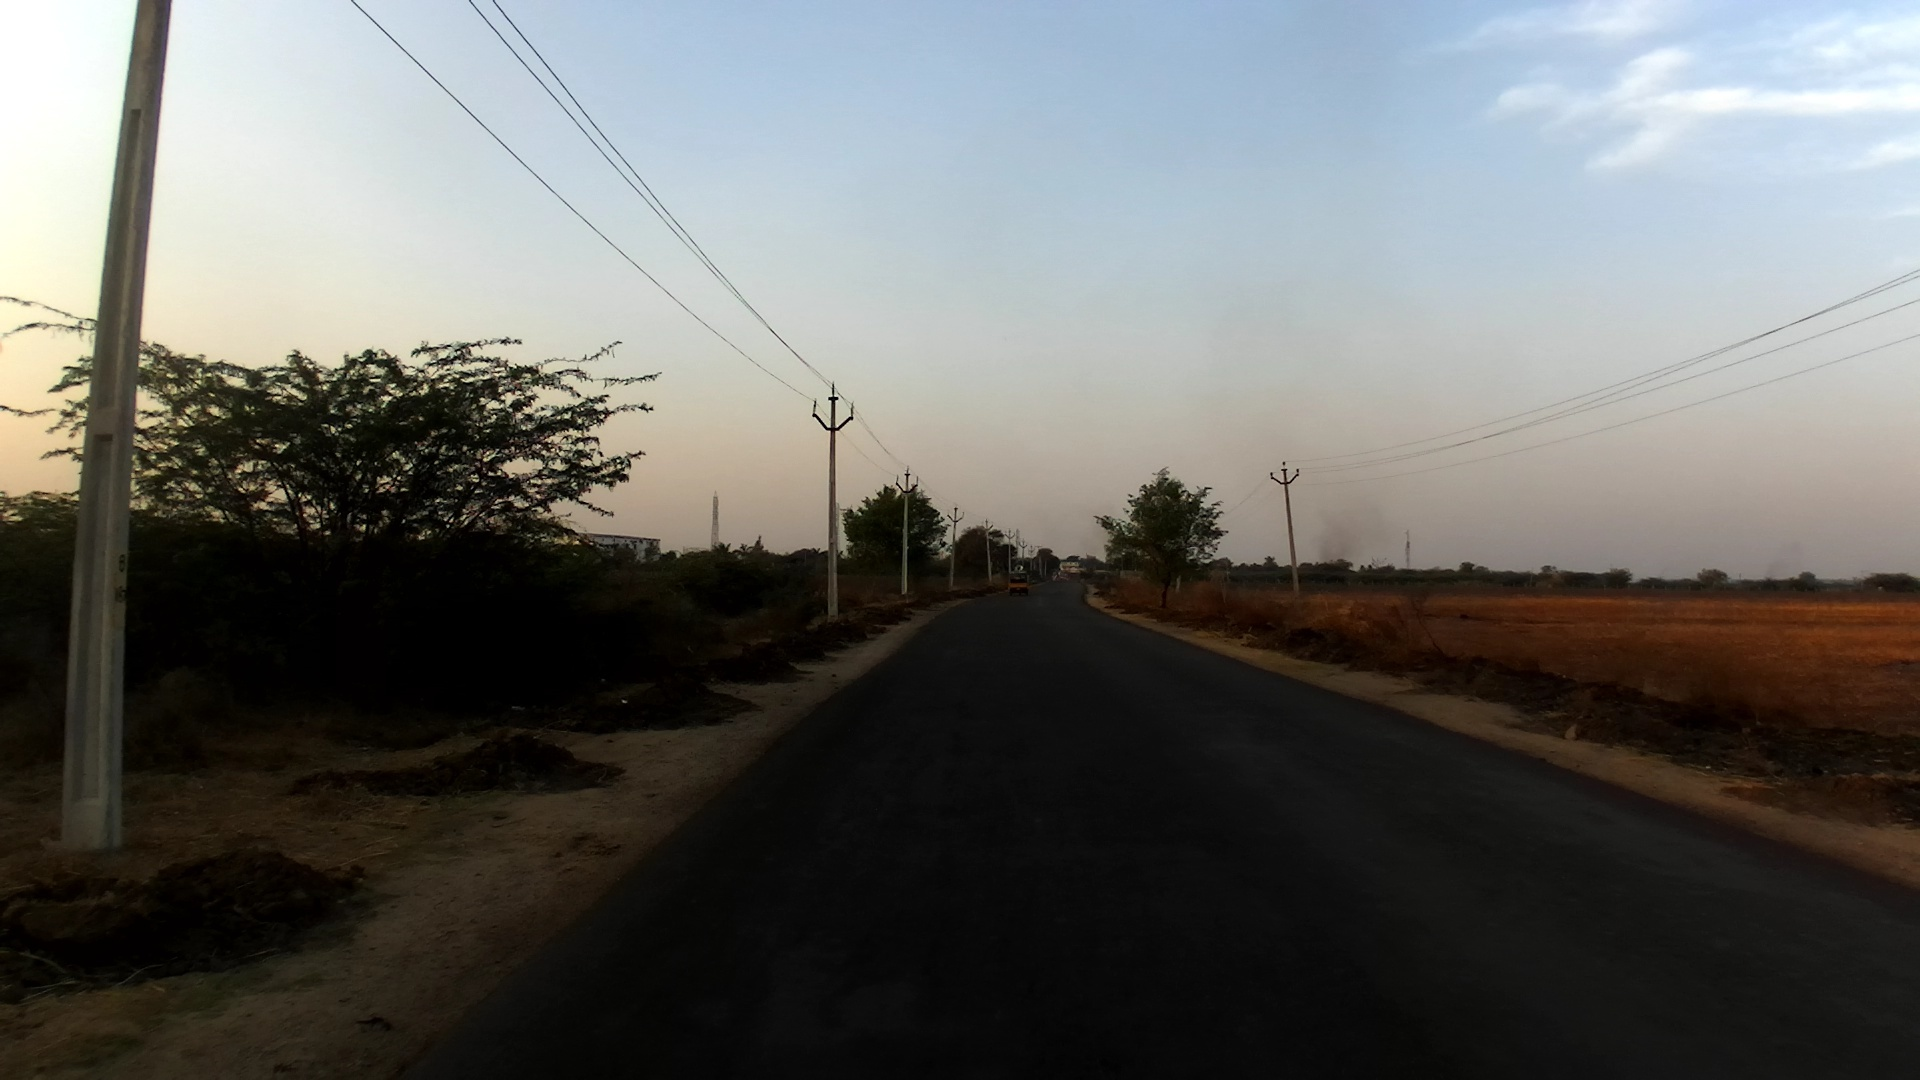autorickshaw: (1006, 567, 1033, 597)
